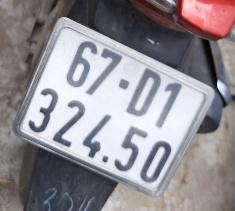0: (137, 136, 180, 191)
1: (148, 73, 191, 139)
2: (46, 92, 95, 152)
3: (17, 77, 70, 143)
4: (77, 101, 122, 167)
5: (111, 123, 147, 178)
6: (55, 32, 101, 93)
7: (81, 47, 127, 102)
D: (120, 59, 170, 125)
